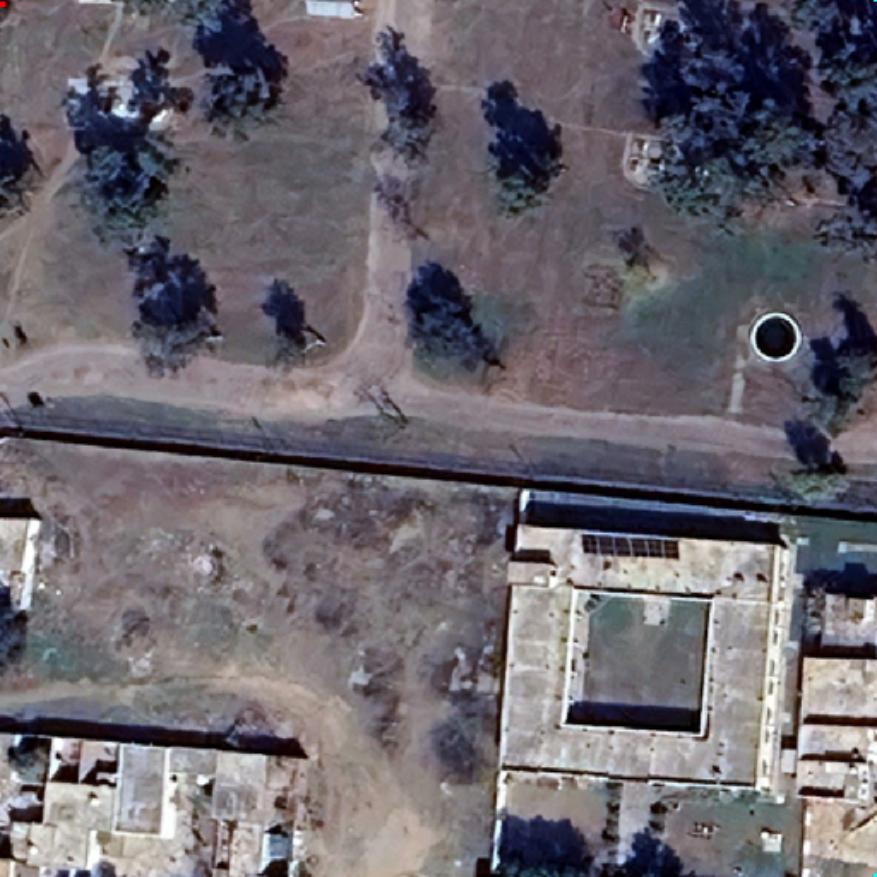Solarpanel: (575, 529, 685, 563)
